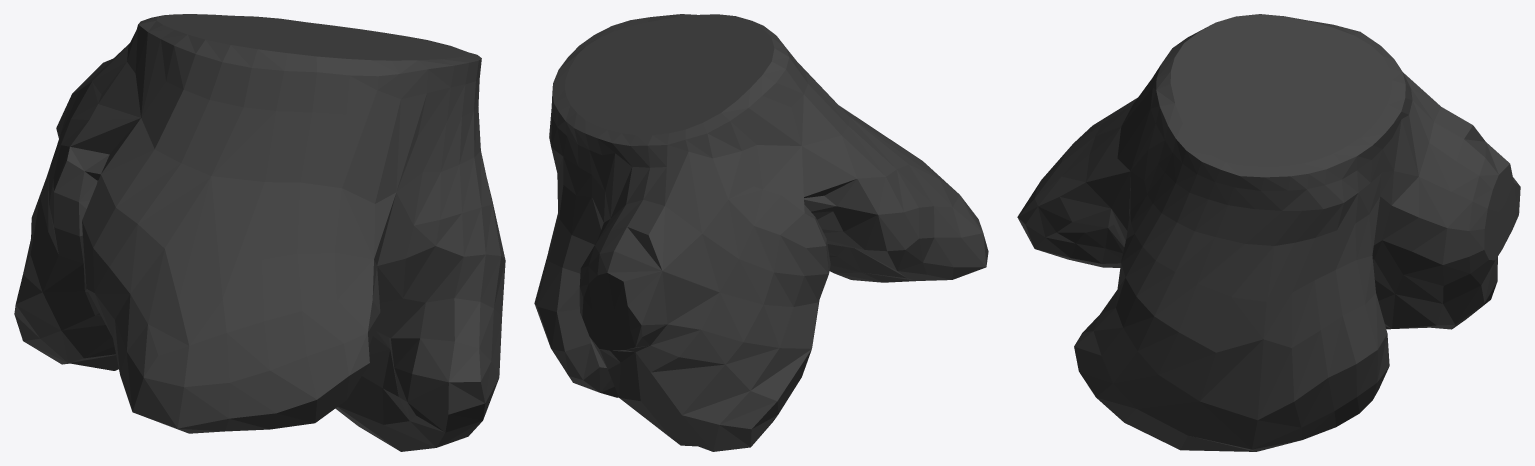
File: L_sided_AORTA.glb
3 renders of one model, left to right at view 1: azimuth 30°, elevation 25°; view 2: azimuth 150°, elevation 25°; view 3: azimuth 270°, elevation 25°, orthographic. The views are drawn at different scales.
Visible parts, largest first — view 1: L_sided_AORTA; view 2: L_sided_AORTA; view 3: L_sided_AORTA.
Boxes of the visible parts, <box> form: L_sided_AORTA: <box>14,14,505,451</box>; L_sided_AORTA: <box>534,14,988,451</box>; L_sided_AORTA: <box>1017,14,1520,451</box>.
Bounding box in the file's own units: 2.48 × 2.43 × 3.04.
1 material, 1 textured.
